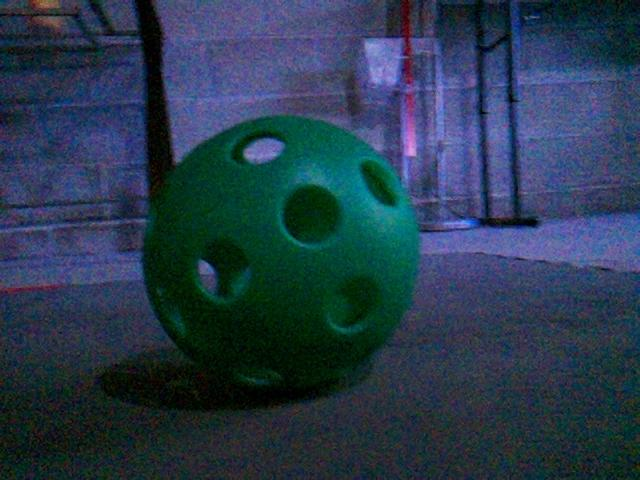Green: (138, 117, 419, 389)
